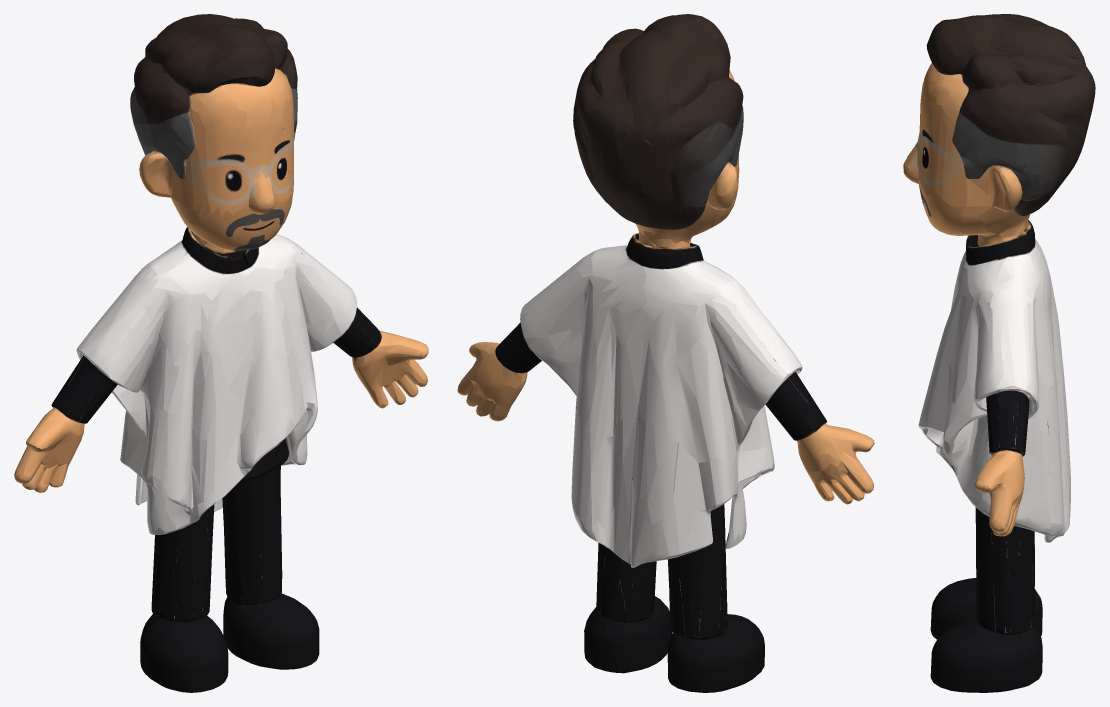
3 views of the same model, side by side, from view 1: azimuth 30°, elevation 25°; view 2: azimuth 150°, elevation 25°; view 3: azimuth 270°, elevation 25° (orthographic).
Size of the model in its own units: 1.28 by 1.9 by 0.5179.
Materials: 1 (1 with a texture image).
